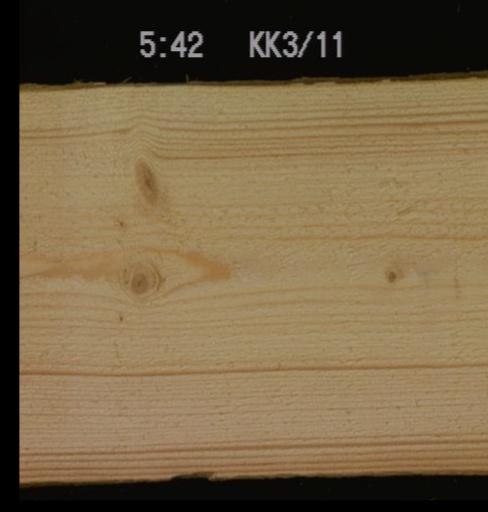small_knot: (384, 267, 398, 284)
sound_knot: (124, 261, 153, 299)
wave: (19, 79, 163, 88)
